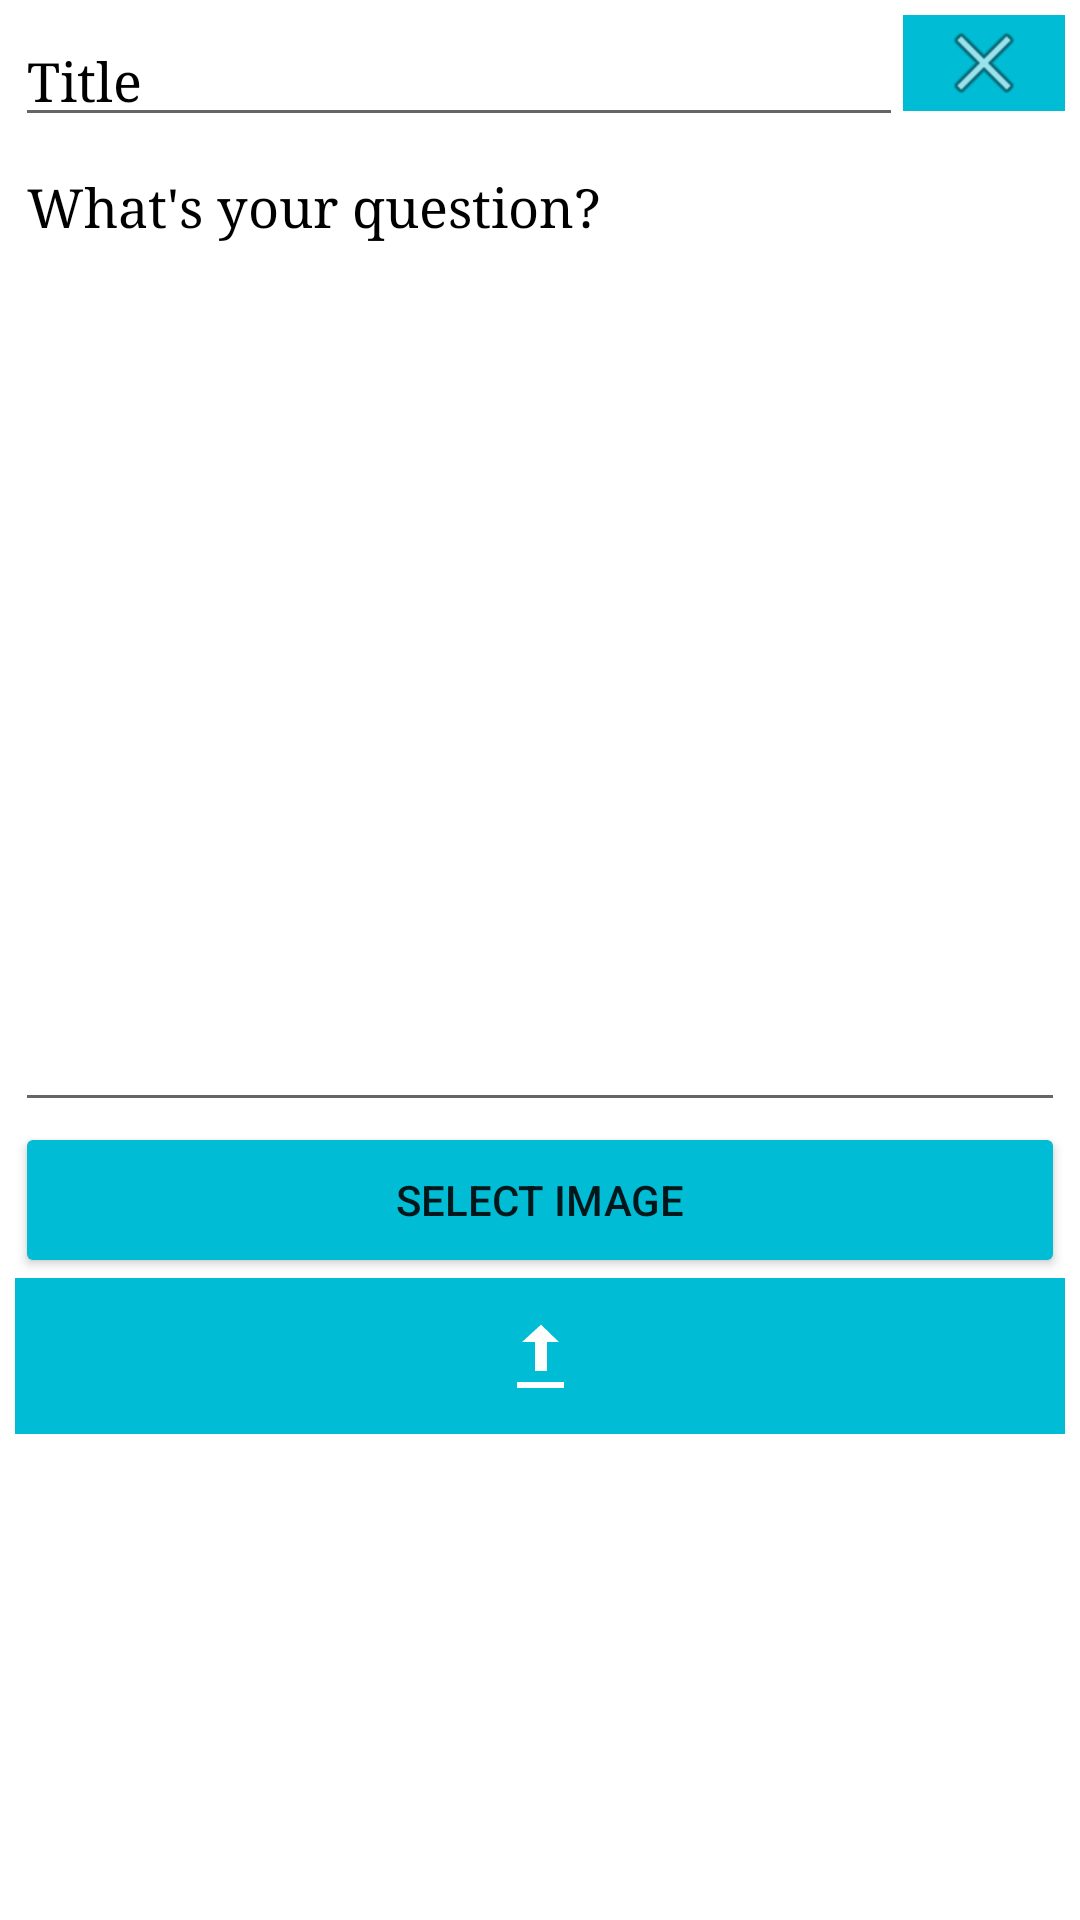

Screen size 1080*1920. Icon name, then its box in pixels as detection(x1, y1, x2, y2):
close clear cancel: detection(903, 15, 1065, 111)
